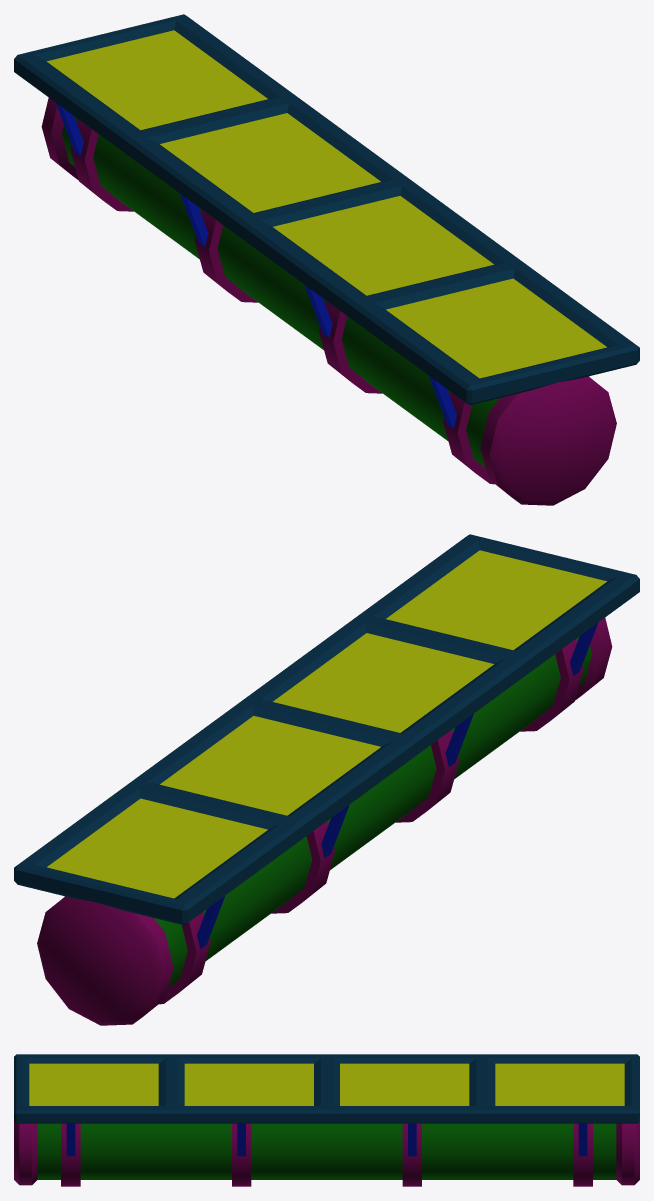
Rendered from OBJ_Rail_Tuyau.fbx.
3 renders of one model, top to bottom at view 1: azimuth 30°, elevation 25°; view 2: azimuth 150°, elevation 25°; view 3: azimuth 270°, elevation 25°, orthographic. The views are drawn at different scales.
Parts seen in each view (by area): view 1: OBJ_Rail_Tuyau; view 2: OBJ_Rail_Tuyau; view 3: OBJ_Rail_Tuyau.
Boxes of the visible parts, x1=… form: OBJ_Rail_Tuyau: x1=14, y1=14, x2=639, y2=505; OBJ_Rail_Tuyau: x1=14, y1=534, x2=639, y2=1025; OBJ_Rail_Tuyau: x1=14, y1=1054, x2=639, y2=1186.
Bounding box in the file's own units: 2.42 × 1.92 × 11.
